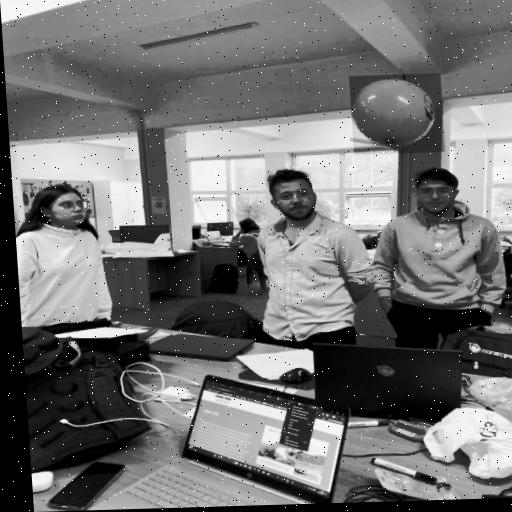balloon: (349, 73, 445, 155)
